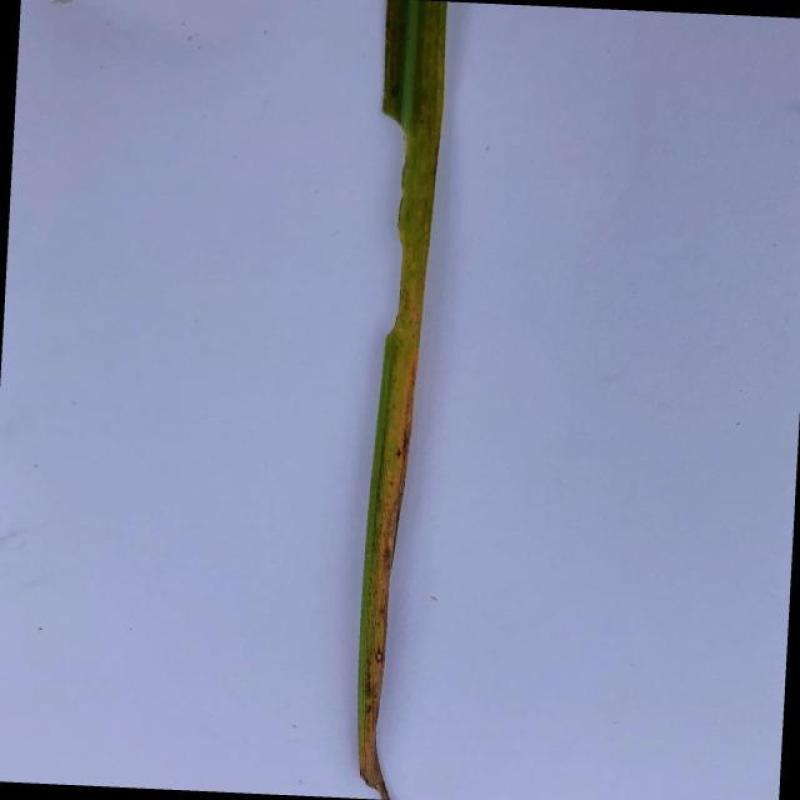Rice Tungro: (362, 269, 426, 795)
